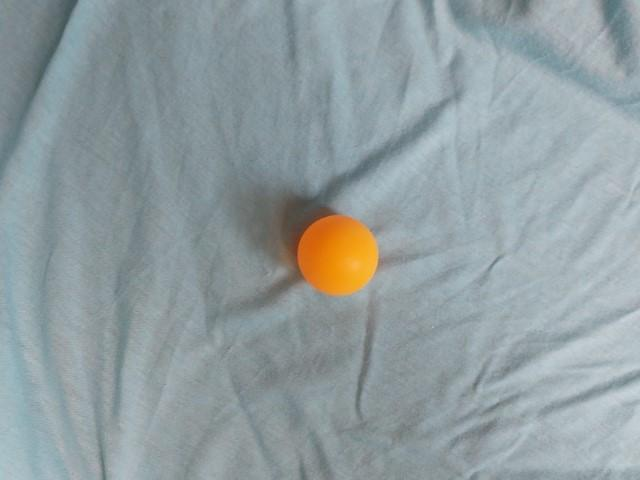oball: (253, 177, 353, 274)
